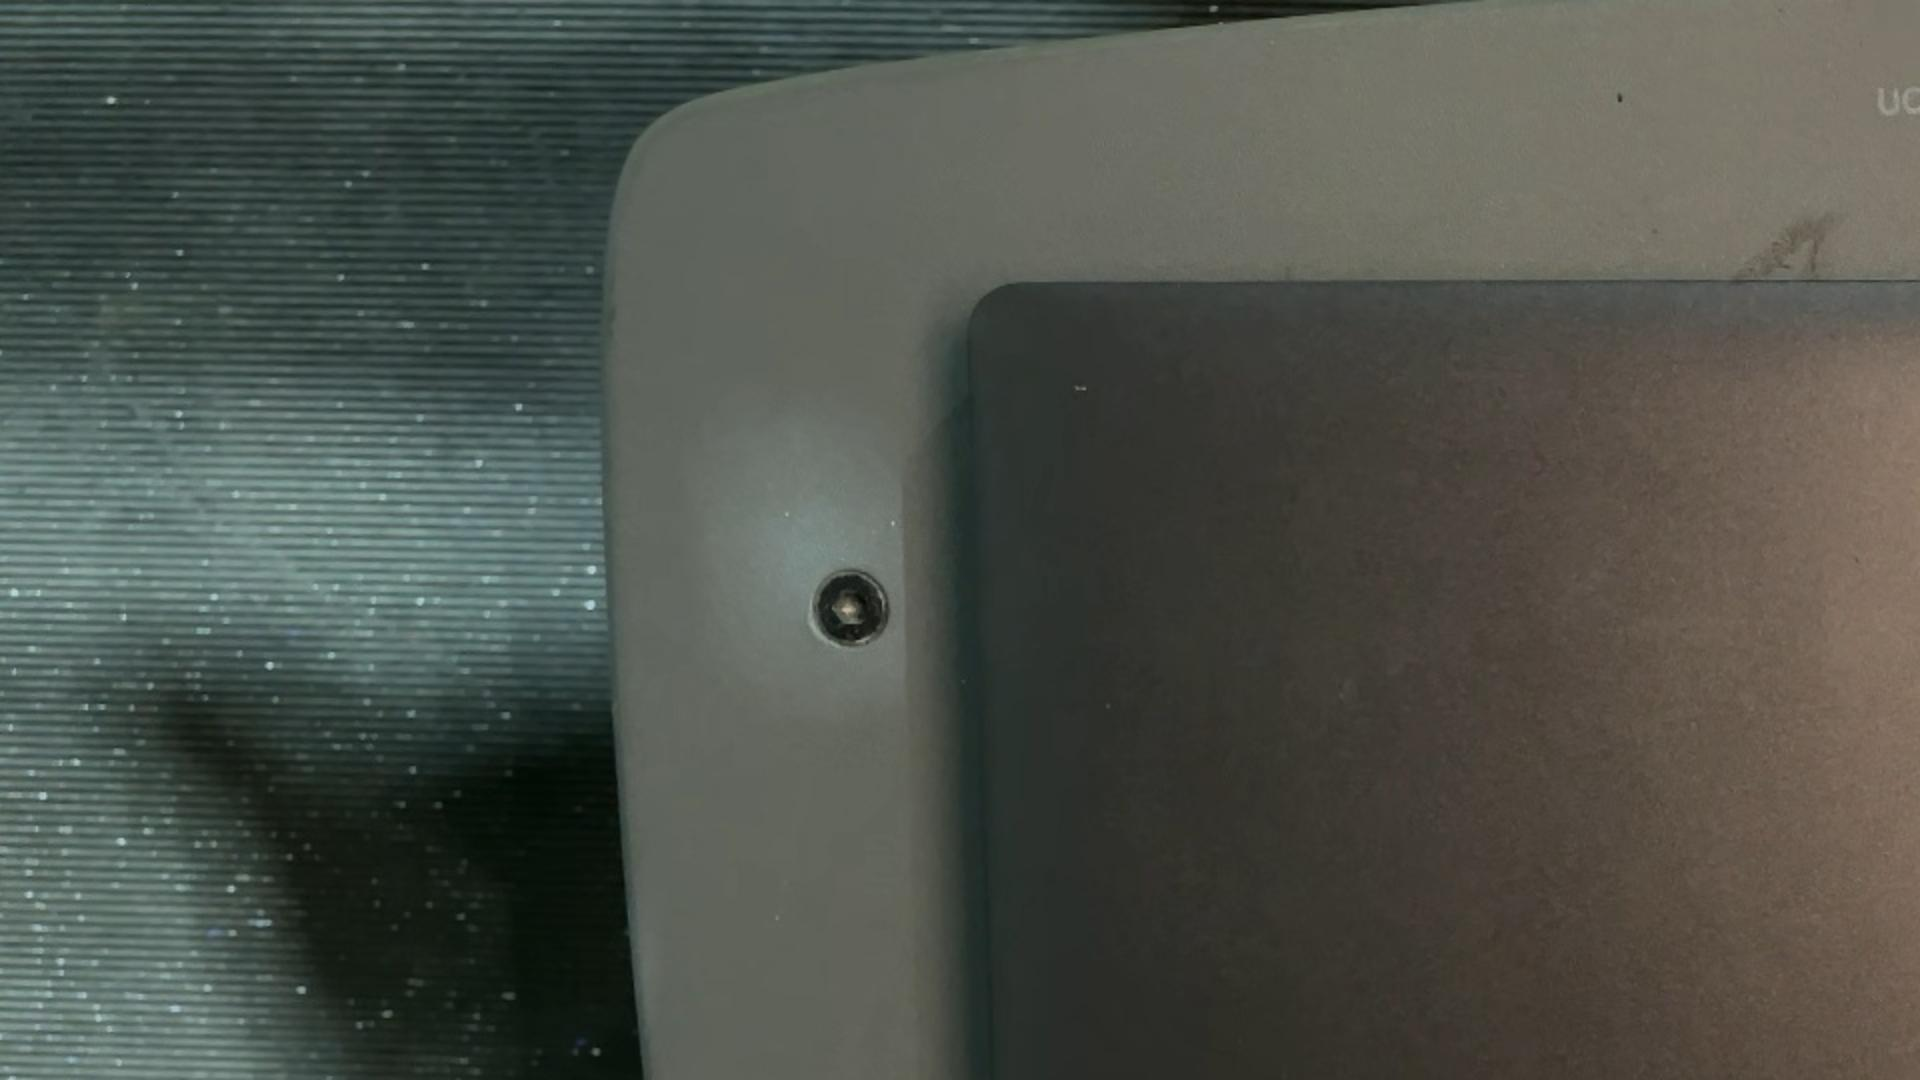scratches: (1071, 386, 1091, 393)
